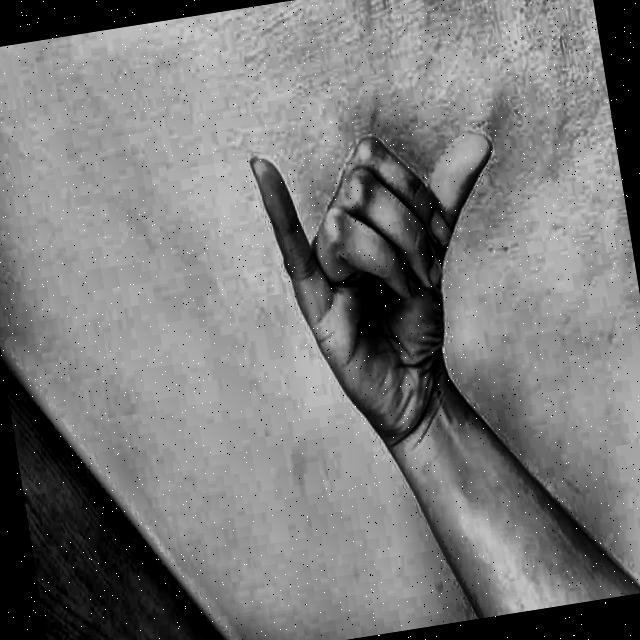Oi: (220, 69, 573, 486)
